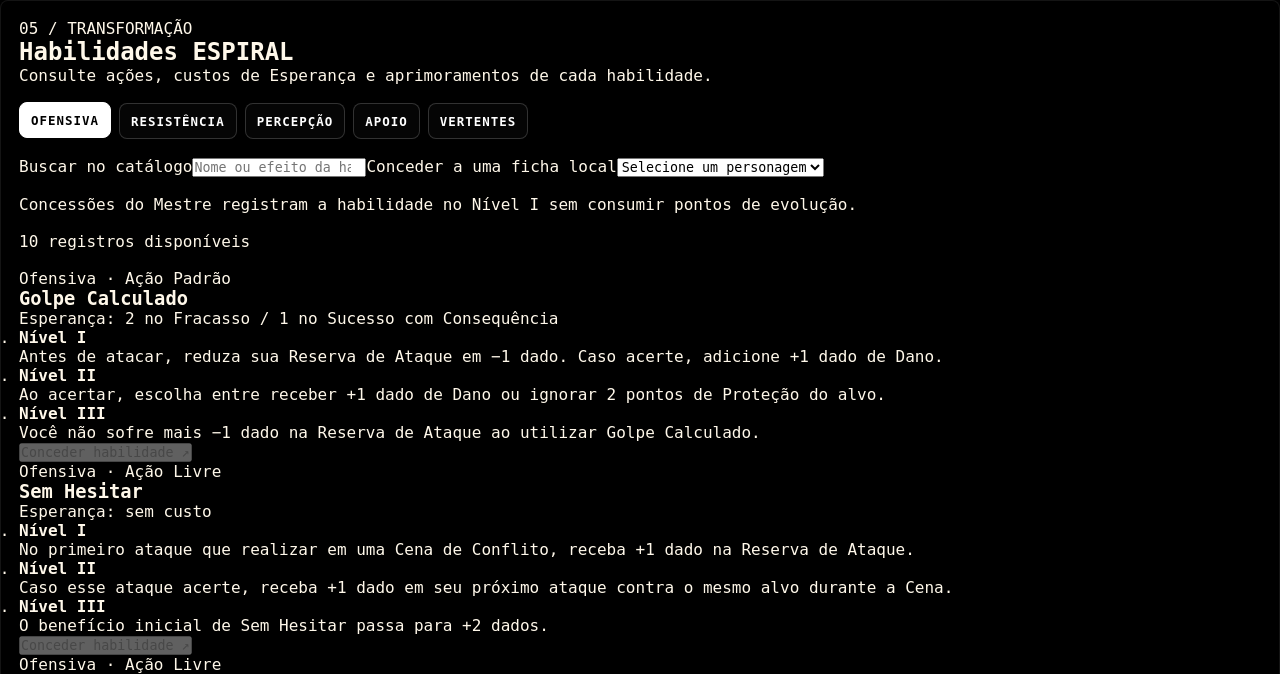
it: habilidade já adquirida não pode ser concedida novamente e falha não anuncia sucesso
This screenshot has width=1280, height=674.
Step 1. Select "Ana · 123" in the dropdown labelled "Conceder a uma ficha local" → (720, 168), box [617,158,824,177]
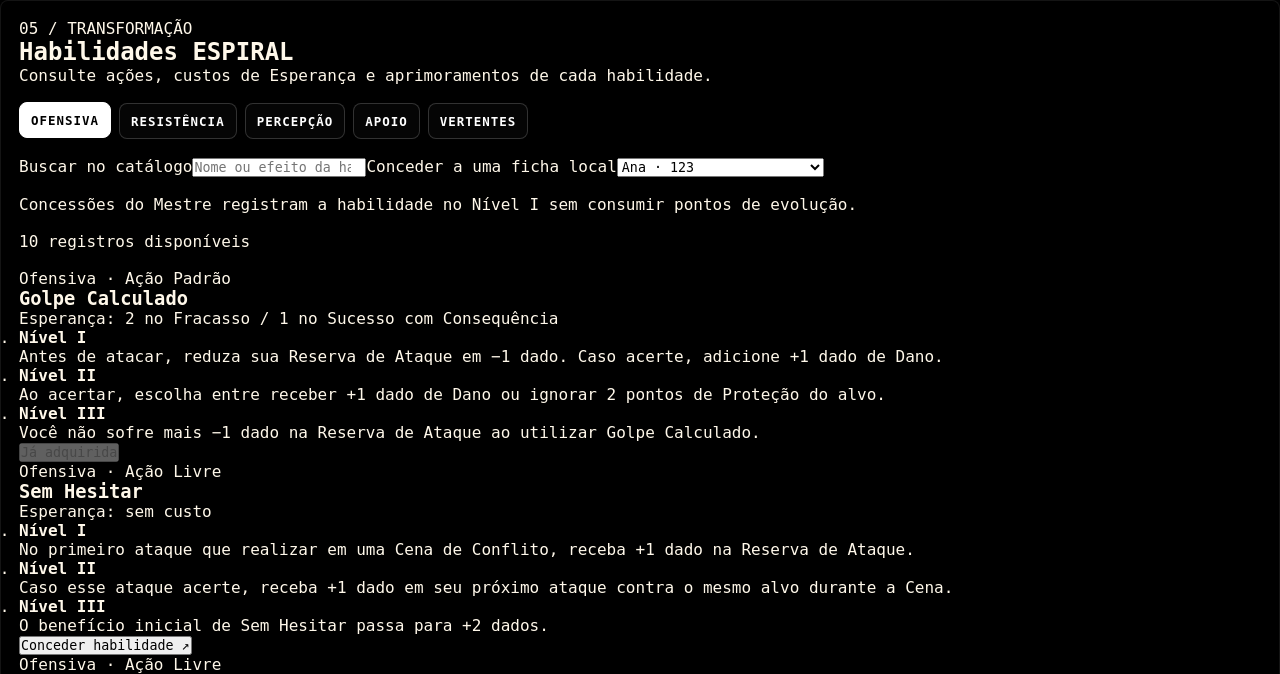
Expected: the button with aria-label "Já concedida: Golpe Calculado" is disabled, [19,443,119,462]
Step 2. Click the button with aria-label "Conceder: Sem Hesitar" → click(105, 646), box [19,636,192,655]
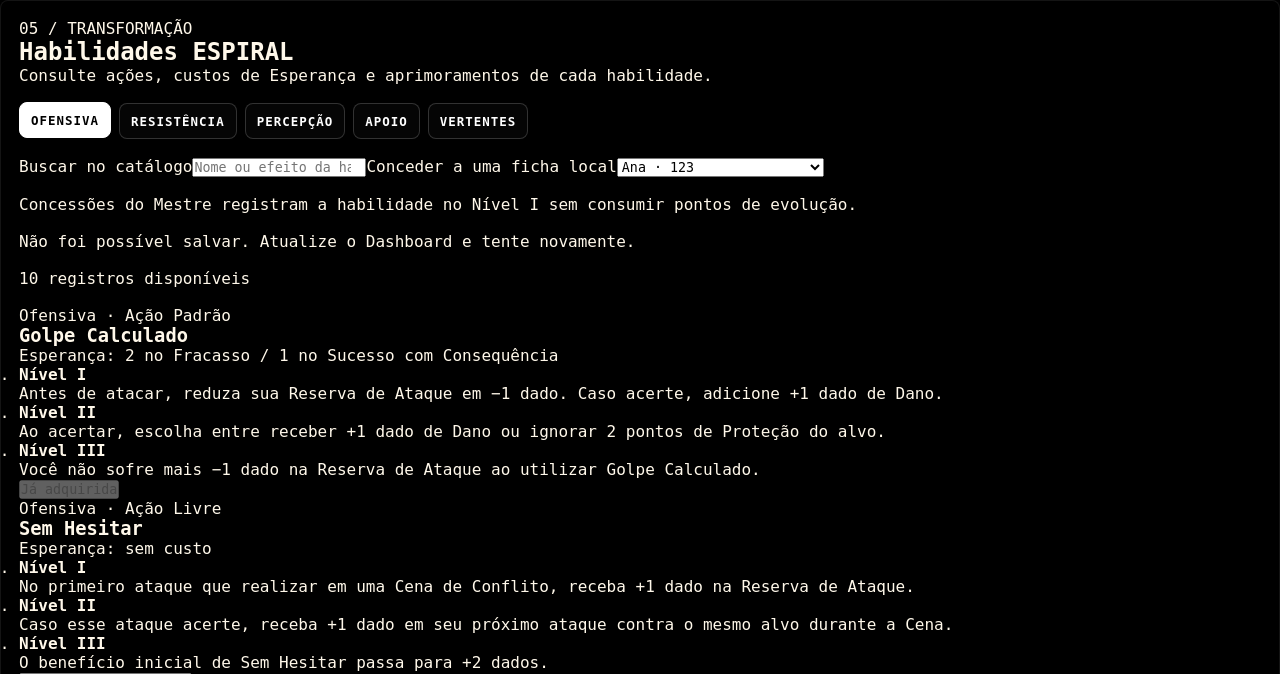
Expected: the message shows "Não foi possível salvar", [19,232,636,251]
